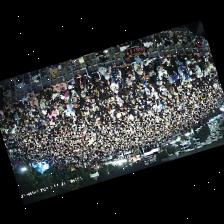person: (84, 60, 101, 83), (154, 59, 167, 78), (149, 69, 162, 84), (119, 63, 132, 77), (39, 86, 53, 99), (75, 71, 85, 89), (54, 81, 67, 94), (177, 58, 188, 73), (99, 66, 111, 78), (134, 69, 145, 82), (143, 58, 154, 71), (86, 79, 95, 94), (162, 52, 171, 67), (110, 64, 118, 79), (124, 85, 134, 97), (133, 61, 143, 73), (69, 87, 78, 100), (96, 80, 105, 93), (110, 78, 118, 92), (121, 78, 131, 89), (165, 80, 174, 92), (30, 96, 38, 109), (52, 89, 60, 102), (102, 75, 111, 86), (172, 72, 181, 83), (122, 74, 133, 83), (117, 84, 124, 98), (48, 109, 56, 121), (22, 94, 29, 107), (51, 99, 60, 109), (13, 100, 22, 110), (27, 90, 35, 101), (116, 69, 122, 83), (66, 79, 75, 88), (177, 53, 185, 63), (168, 75, 176, 85), (40, 98, 46, 111), (116, 94, 123, 105), (178, 66, 185, 77), (192, 52, 200, 61), (81, 85, 87, 97), (104, 86, 112, 95), (60, 94, 68, 103), (8, 101, 15, 111), (57, 104, 63, 115), (23, 104, 31, 112), (25, 106, 32, 115), (4, 105, 11, 114), (170, 56, 177, 65), (185, 52, 192, 60), (45, 98, 52, 105), (64, 90, 69, 96), (205, 51, 209, 57)
